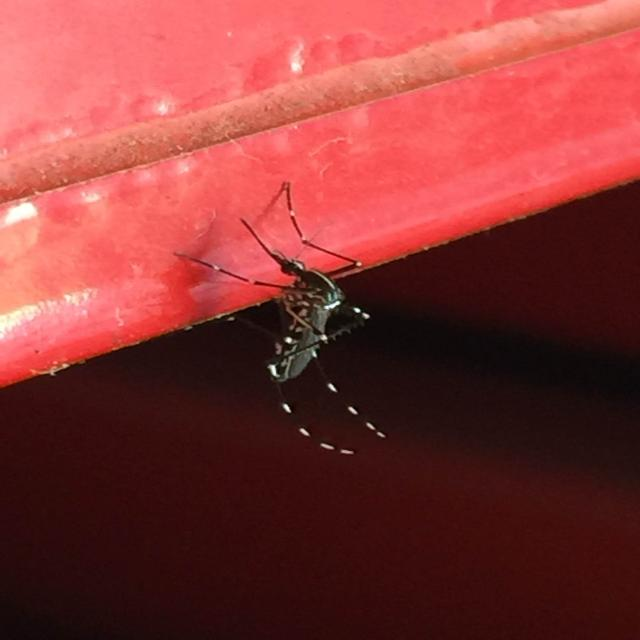albopictus: (168, 170, 388, 442)
